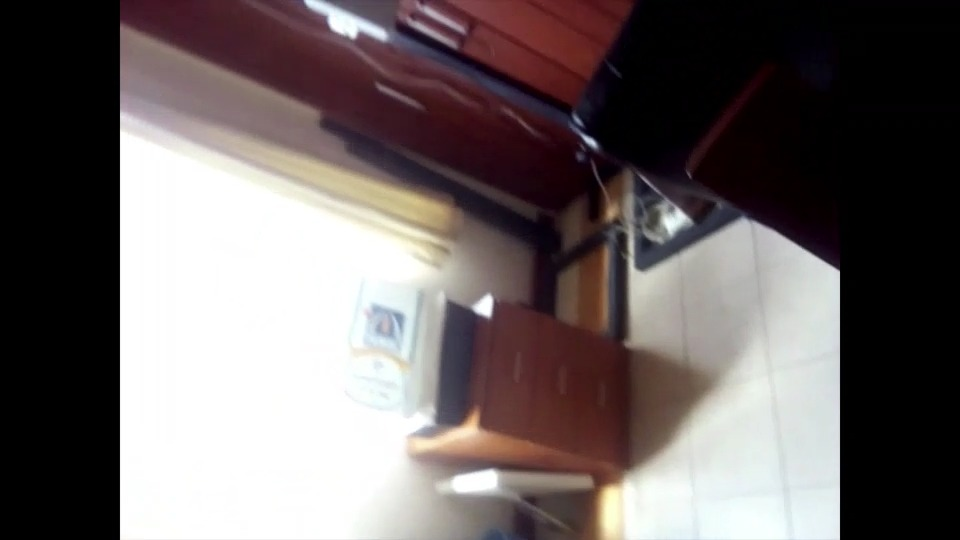wheat_flour_blue_label: (340, 271, 420, 426)
